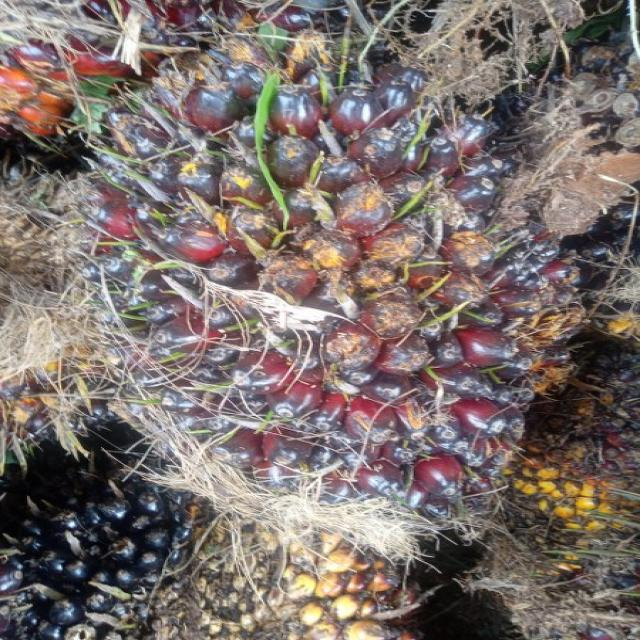fraksi 1: (110, 59, 544, 516)
